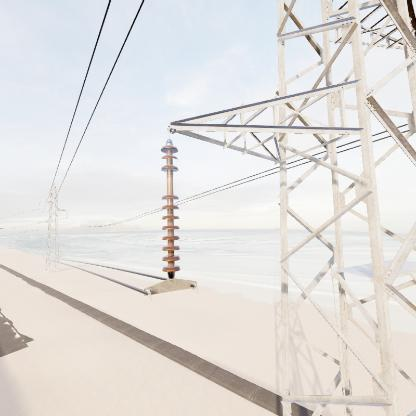insulator: (155, 143, 186, 278)
